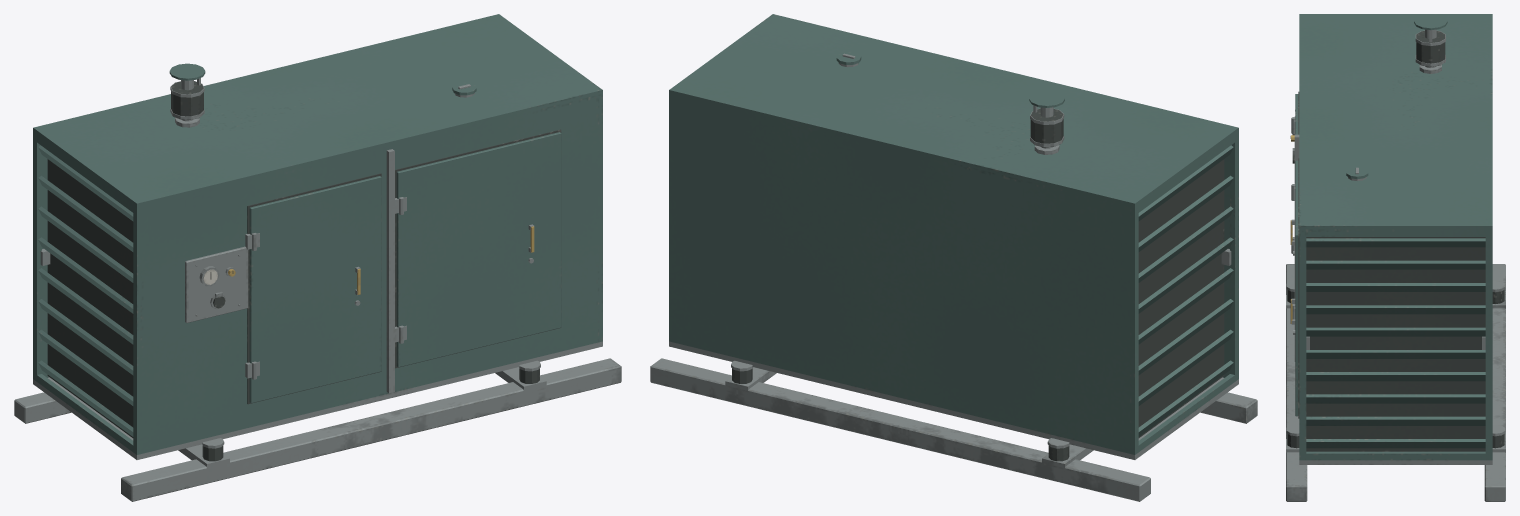
File: bunker_diesel_generator_large.glb
3 views of the same model, side by side, from view 1: azimuth 30°, elevation 25°; view 2: azimuth 150°, elevation 25°; view 3: azimuth 270°, elevation 25° (orthographic). The views are drawn at different scales.
Visible parts, largest first — view 1: DieselGenerator; view 2: DieselGenerator; view 3: DieselGenerator.
Part boxes in pixels (left/top/right/bottom): DieselGenerator: left=14, top=14, right=621, bottom=501; DieselGenerator: left=650, top=14, right=1257, bottom=501; DieselGenerator: left=1286, top=14, right=1505, bottom=501.
Size of what is drawn, in the model's own units: 3 by 2 by 1.25.
1 material, 1 textured.
